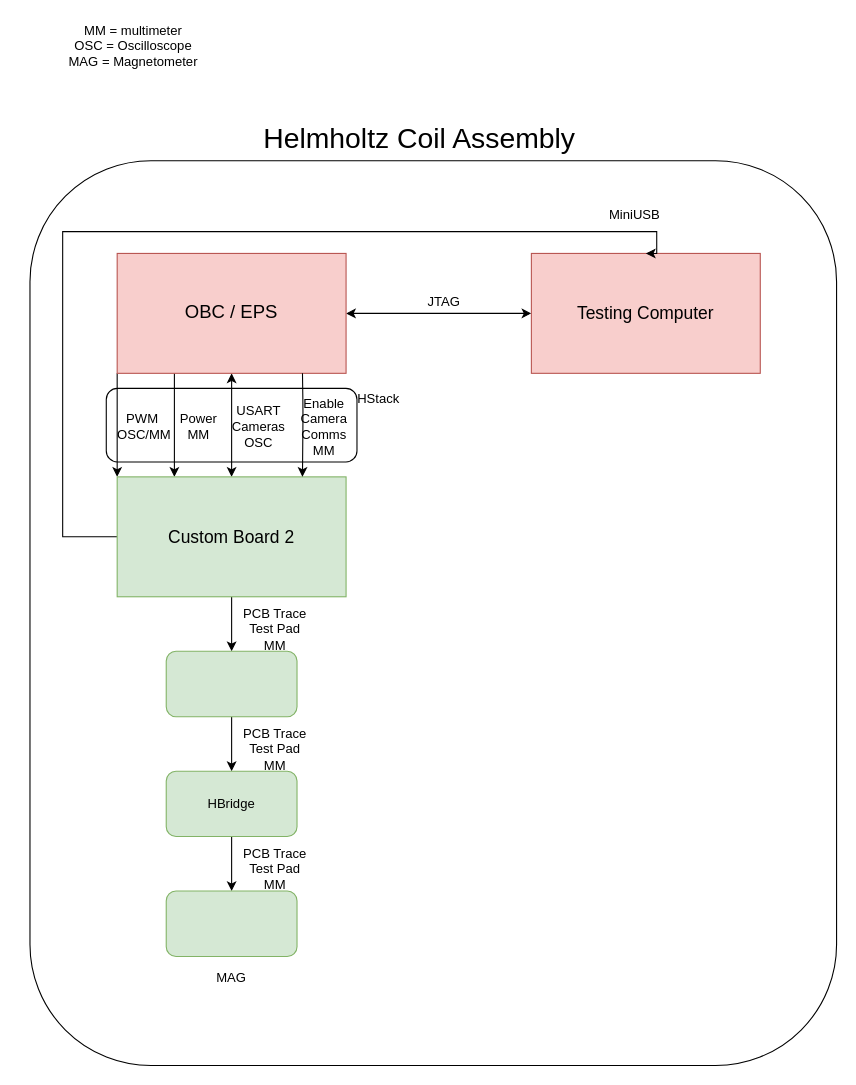
Some shapes in this 856 by 1085 pixel diagram are drawn without their labels. Each missing label, with the centre of its shape:
"Load Switches" goes at point (231, 683).
"Torque Rods" goes at point (231, 923).
